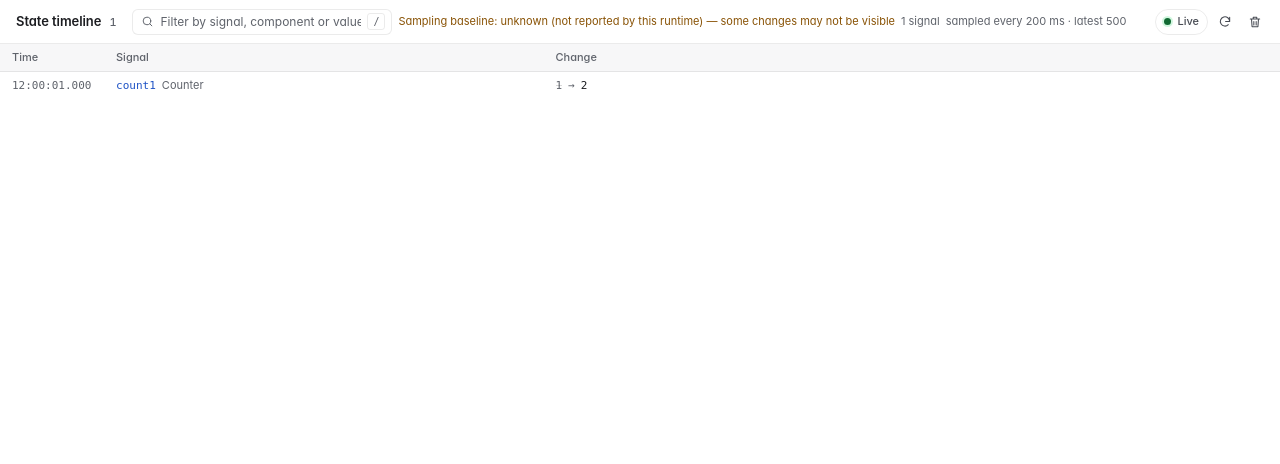
Test: StateTimeline › clear empties the list and the server buffer
The width and height of the screenshot is (1280, 464).
Expected: the number of options is 1, [12,78,587,92]
Click the button named "Clear recorded data": (1255, 22) [1242,8,1268,34]
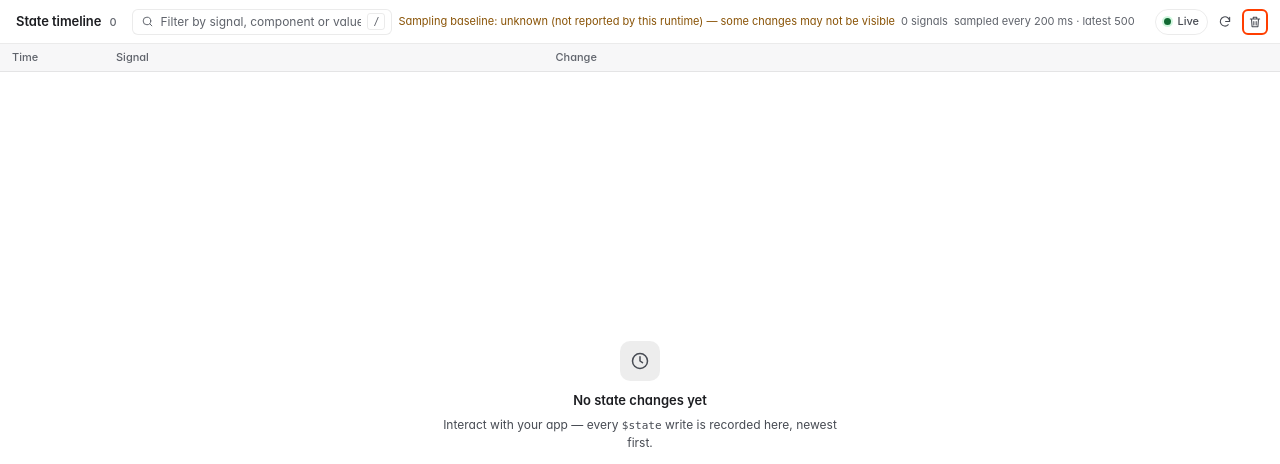
Expected: the text "No state changes yet" is shown, [573,391,707,410]
